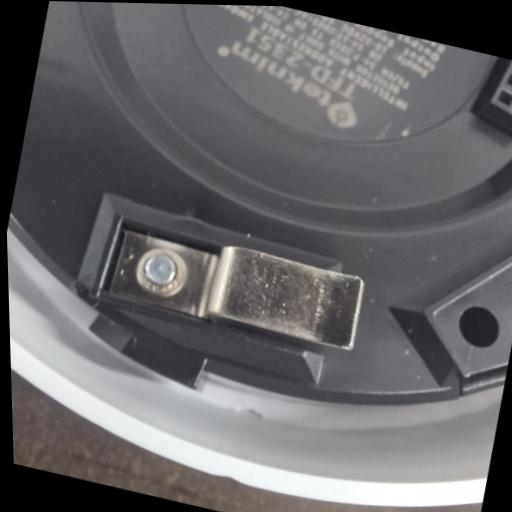yaysiz: (90, 211, 366, 357)
